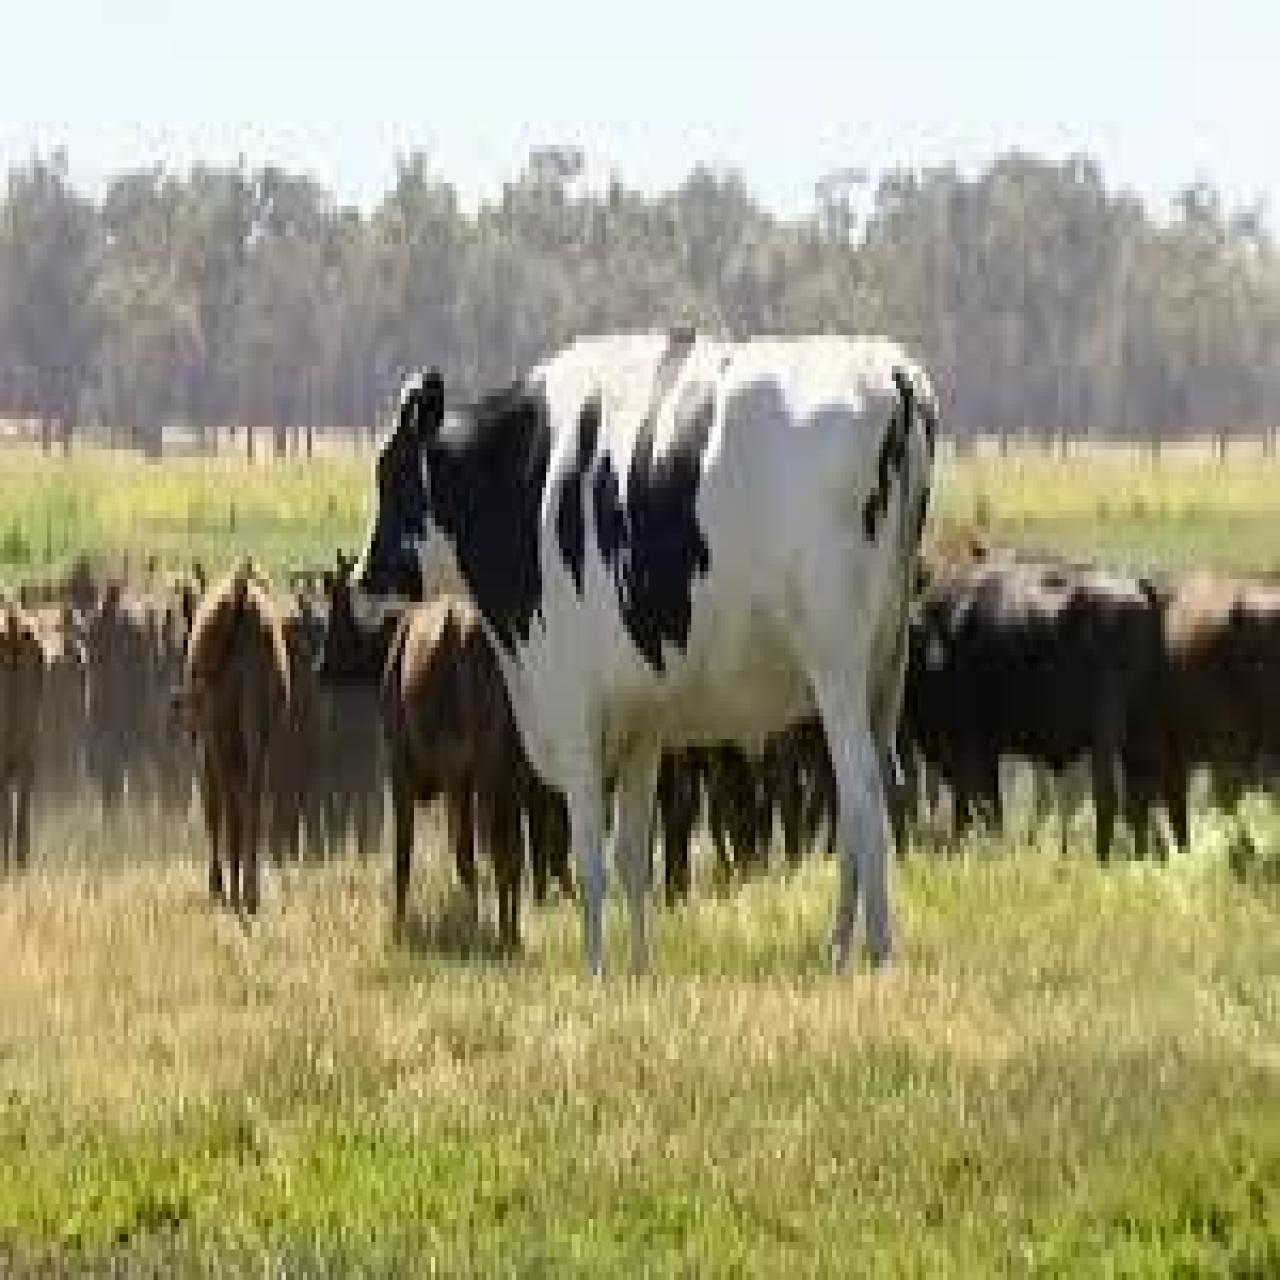cow: (352, 324, 941, 987), (908, 556, 1160, 862), (384, 591, 529, 956), (185, 564, 292, 922), (1169, 572, 1280, 869), (0, 594, 47, 876), (42, 594, 89, 799)
